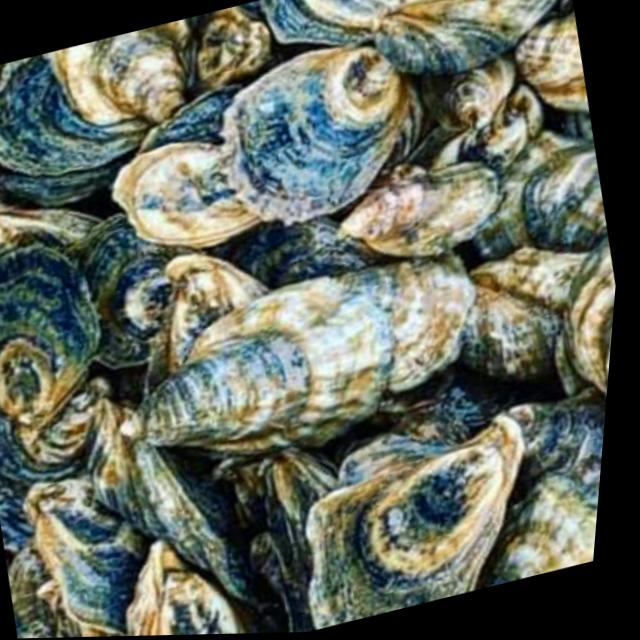Oyster-Closed: (306, 416, 525, 629), (112, 142, 262, 247), (140, 84, 242, 154), (256, 0, 416, 44), (573, 253, 616, 398)
Oyster-Indeterminate: (125, 277, 395, 450), (84, 400, 285, 613), (220, 45, 407, 223), (65, 211, 200, 368), (24, 472, 151, 636), (332, 251, 477, 390), (146, 254, 279, 392), (0, 54, 148, 174), (41, 18, 195, 133), (458, 246, 588, 382), (0, 247, 99, 425), (338, 160, 502, 257), (472, 472, 599, 590), (474, 130, 587, 261), (263, 447, 339, 632), (374, 0, 553, 76), (211, 217, 393, 287), (505, 384, 606, 510), (128, 537, 245, 636), (0, 376, 109, 481), (431, 82, 544, 179), (523, 143, 608, 253), (515, 10, 590, 111), (421, 52, 516, 129), (0, 198, 105, 254), (10, 537, 54, 631), (0, 475, 36, 551)
